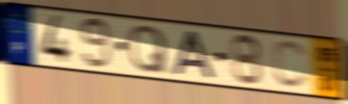4: (38, 12, 73, 67)
8: (230, 33, 264, 88)
9: (79, 16, 114, 72)
A: (171, 28, 218, 81)
C: (271, 38, 311, 91)
Q: (128, 23, 170, 75)
